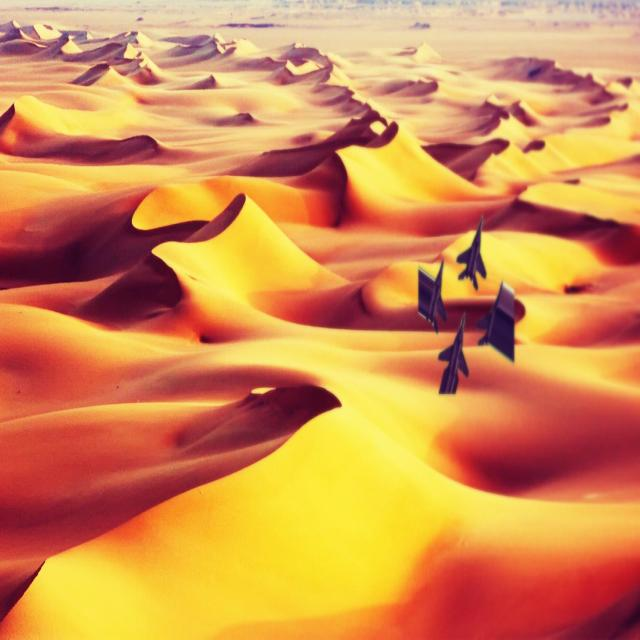airplane: (438, 311, 468, 395), (456, 214, 486, 290)
